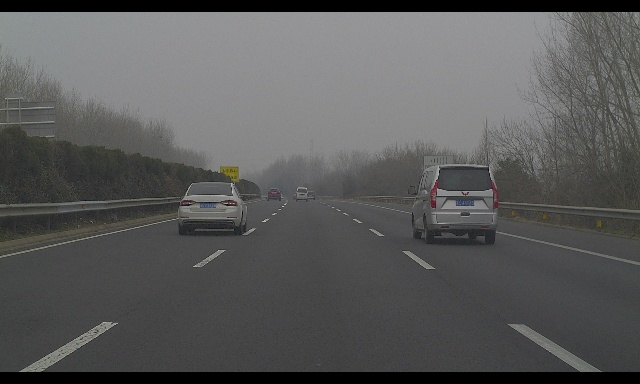car: (408, 164, 498, 244), (178, 182, 249, 235), (267, 188, 281, 201), (296, 187, 308, 201), (305, 191, 315, 200)
